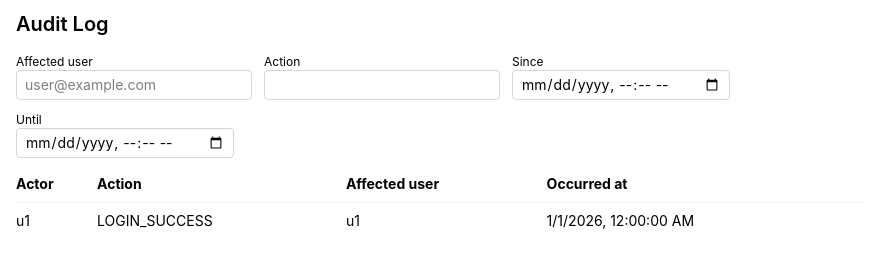
Scenario: Admin Audit Log page › shows an empty state when no user matches the affected-user email filter
Expected: the text "LOGIN_SUCCESS" is shown, [97, 202, 346, 239]
In the field labelled "Affected user": x=134, y=85 [16, 70, 252, 100], type "nobody@example.com"
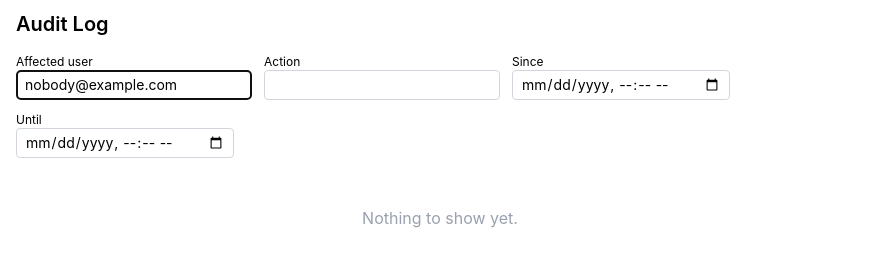
Now the text "Nothing to show yet." is shown, box [362, 208, 518, 228]
